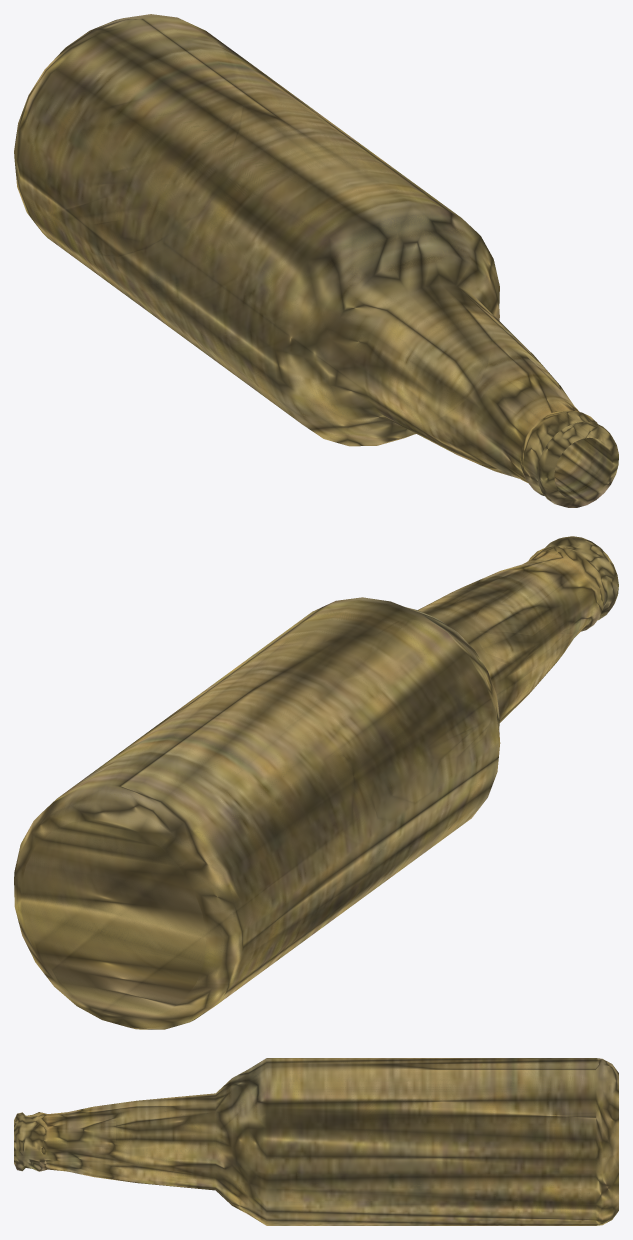
Rendered from model_align.obj.
3 views of the same model, one above another, from view 1: azimuth 30°, elevation 25°; view 2: azimuth 150°, elevation 25°; view 3: azimuth 270°, elevation 25° (orthographic). The views are drawn at different scales.
Size of the model in its own units: 0.0699 by 0.0699 by 0.2519.
